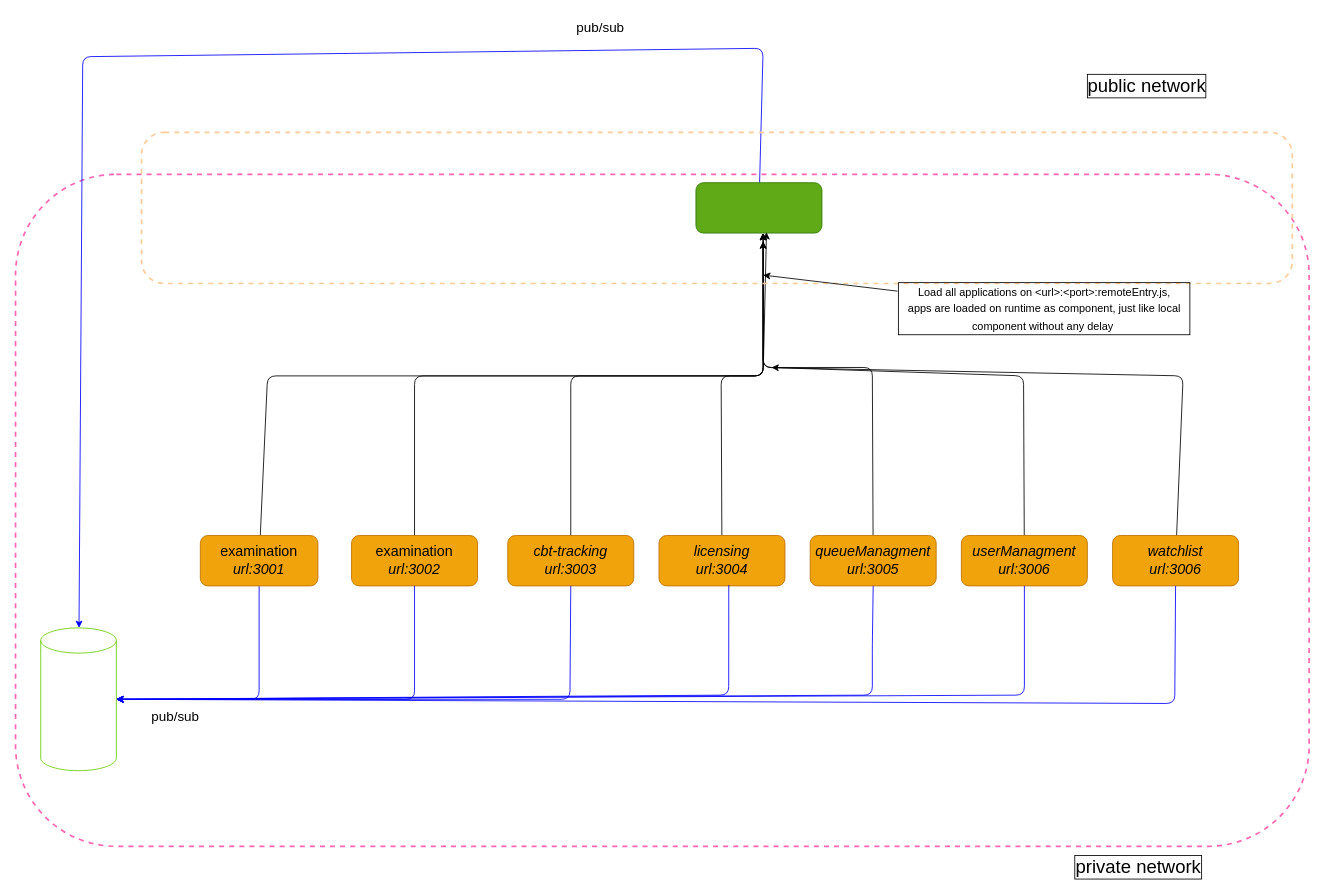
Image size: 1324x894. Some labels were removed from this diagram. The centre of each missing label's shape, as x and y in pixels:
Main url:3000: point 758,207
shared store (zustand): point 78,699
